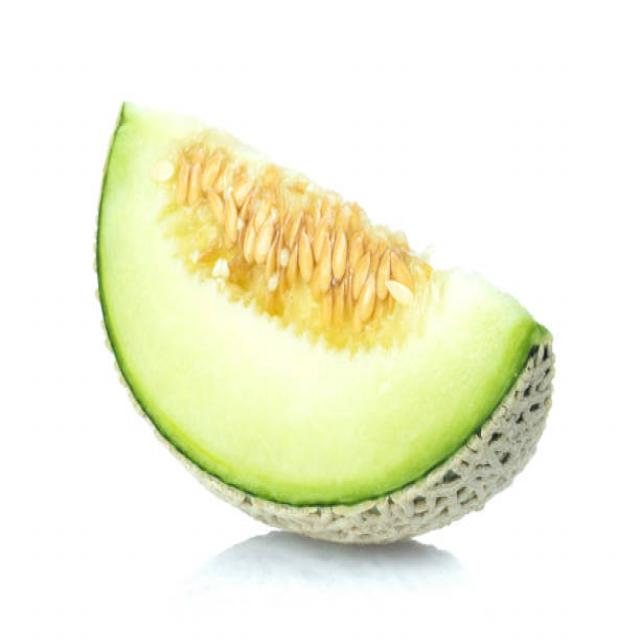melon: (92, 98, 554, 562)
